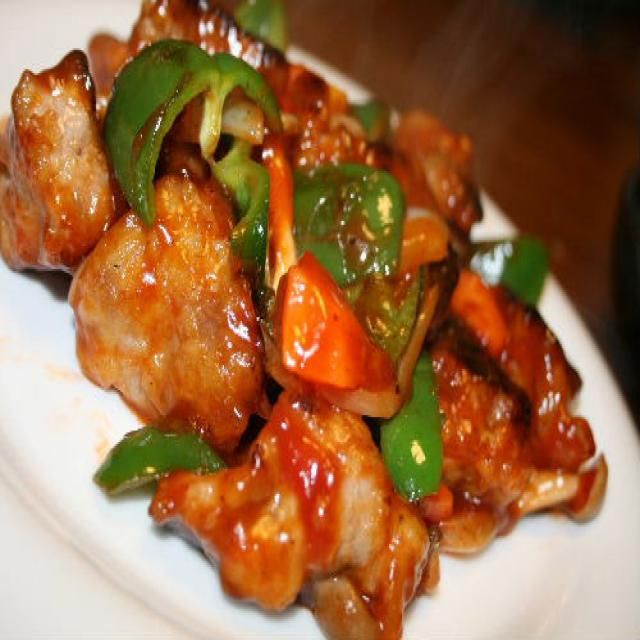猪肉菜式: (0, 0, 611, 640)
